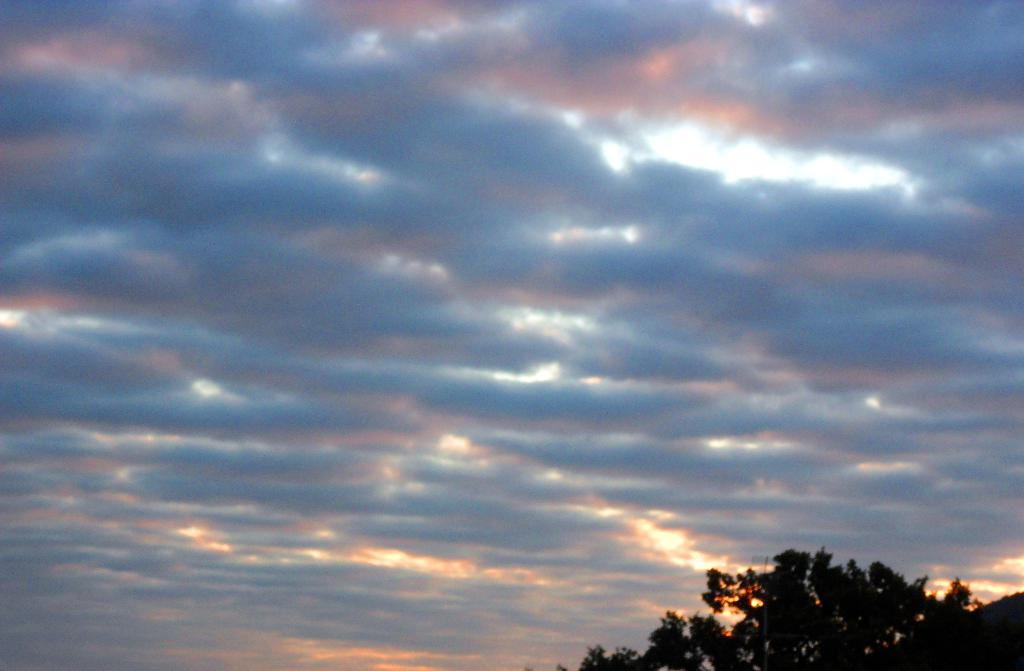Tree: (524, 545, 1022, 670)
